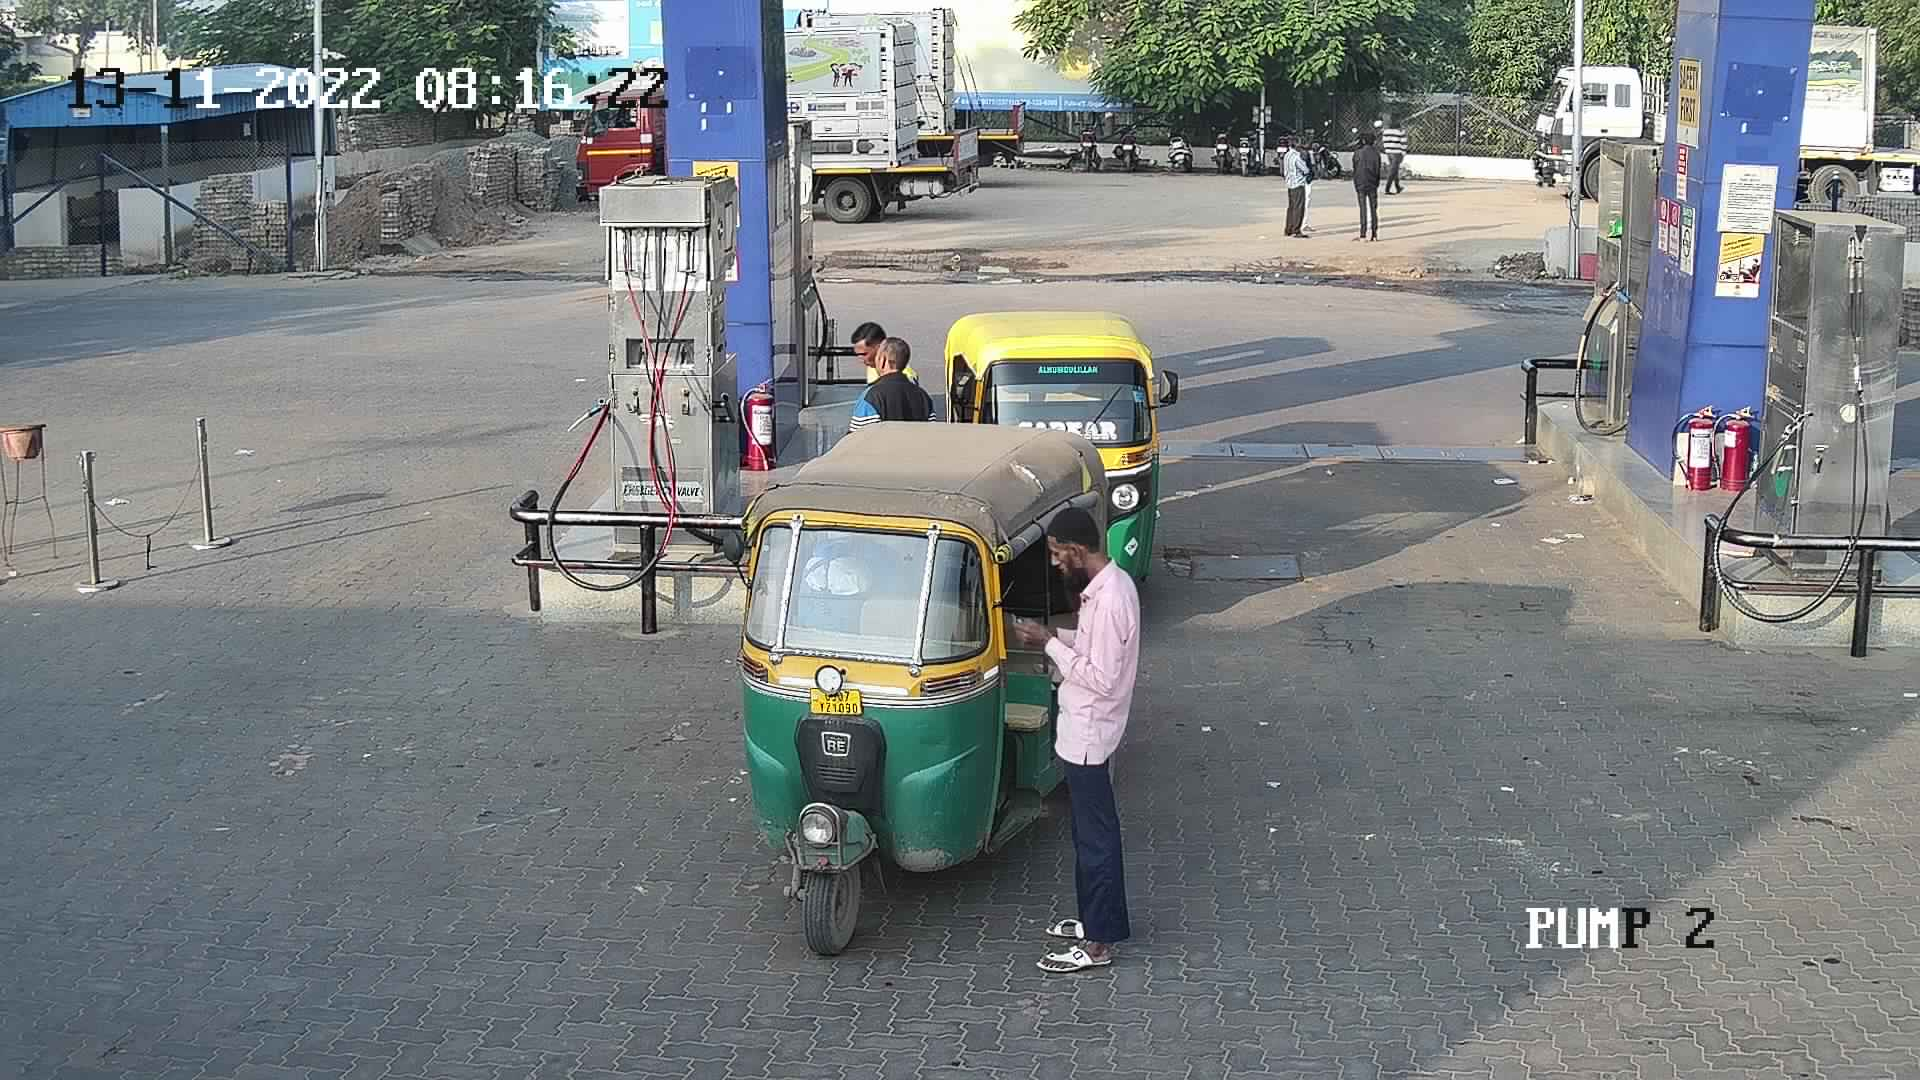Auto: (713, 411, 1124, 957), (931, 297, 1182, 601)
Bike: (1156, 111, 1199, 173), (1305, 117, 1345, 179), (1112, 116, 1147, 177), (1204, 109, 1237, 170), (1233, 117, 1265, 179), (1071, 117, 1102, 175)
HMV: (778, 8, 1000, 229), (789, 0, 1038, 175), (1513, 46, 1679, 200)
Others: (840, 313, 920, 394)
